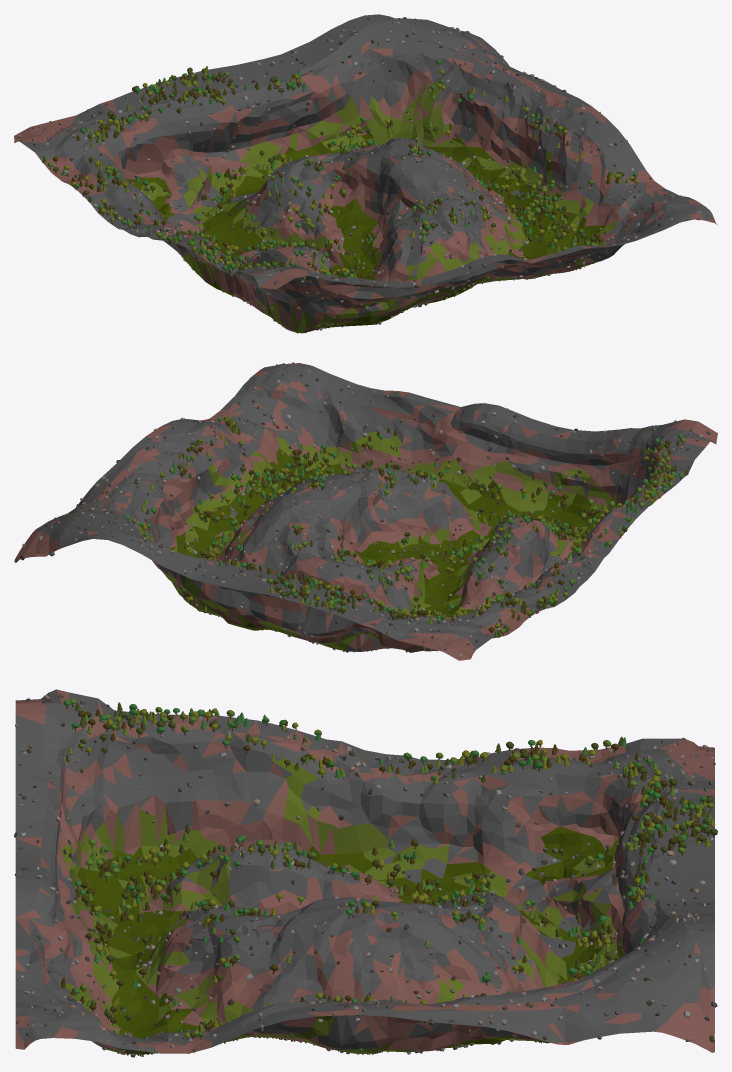
Rendered from obj_Terrain.fbx.
The picture shows the model from 3 angles, top to bottom: view 1: azimuth 30°, elevation 25°; view 2: azimuth 150°, elevation 25°; view 3: azimuth 270°, elevation 25°; orthographic projection. The views are drawn at different scales.
Visible parts, largest first — view 1: geo_Terrain; view 2: geo_Terrain; view 3: geo_Terrain.
Part boxes in pixels (<box>): geo_Terrain: <box>14,14,717,333</box>; geo_Terrain: <box>14,363,717,660</box>; geo_Terrain: <box>15,689,714,1054</box>.
Bounding box in the file's own units: 102227 × 24271 × 101917.
